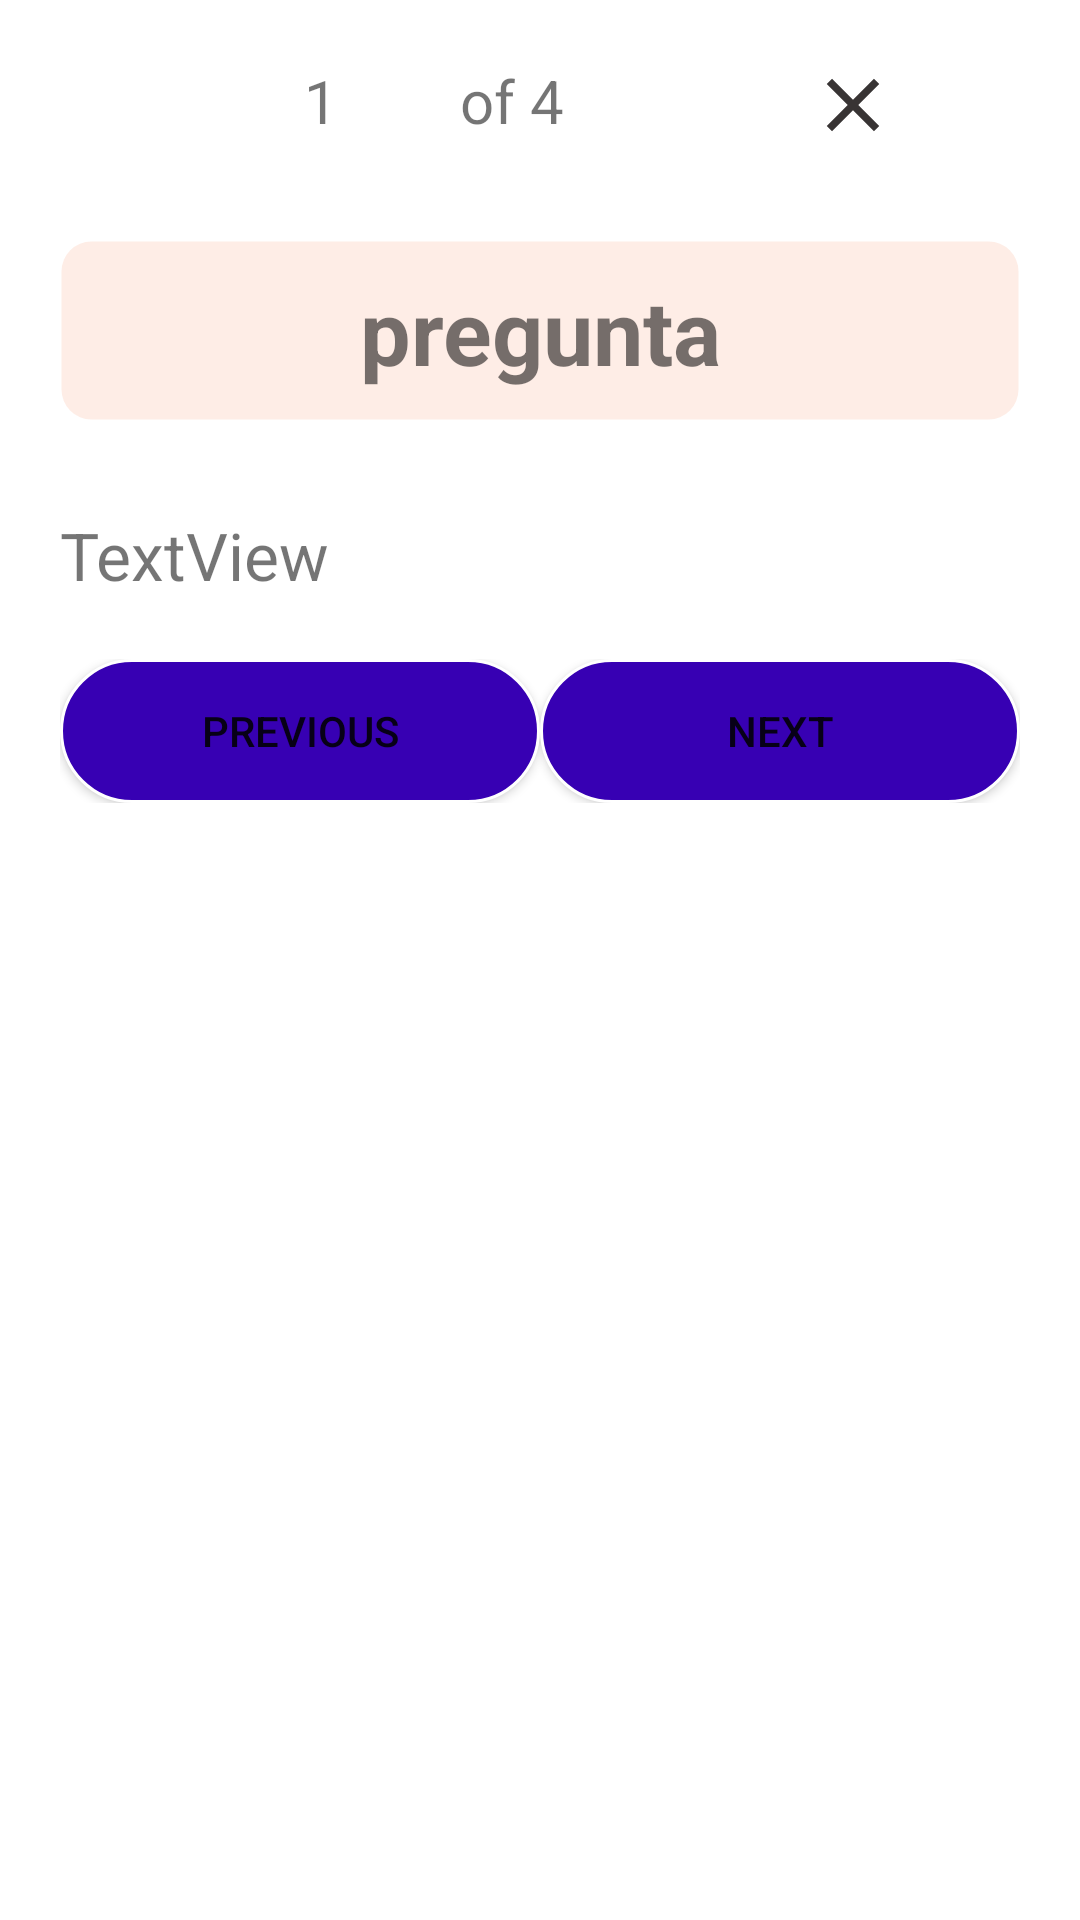

Screen size 1080w x 1920h. Icon name, then its center in pixels as [x,y]:
close: [853,105]
